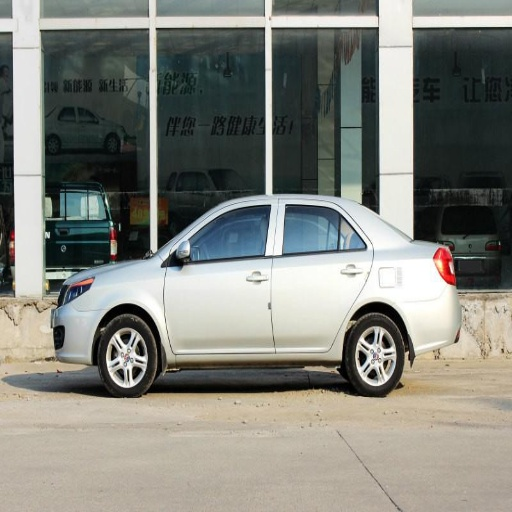back_left_door: (272, 202, 372, 351)
front_left_door: (164, 202, 276, 354)
